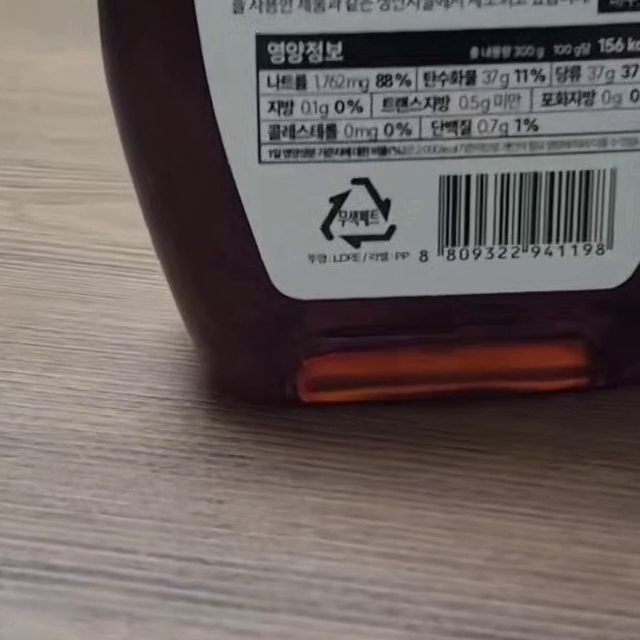ColorlessPet: (321, 177, 399, 249)
